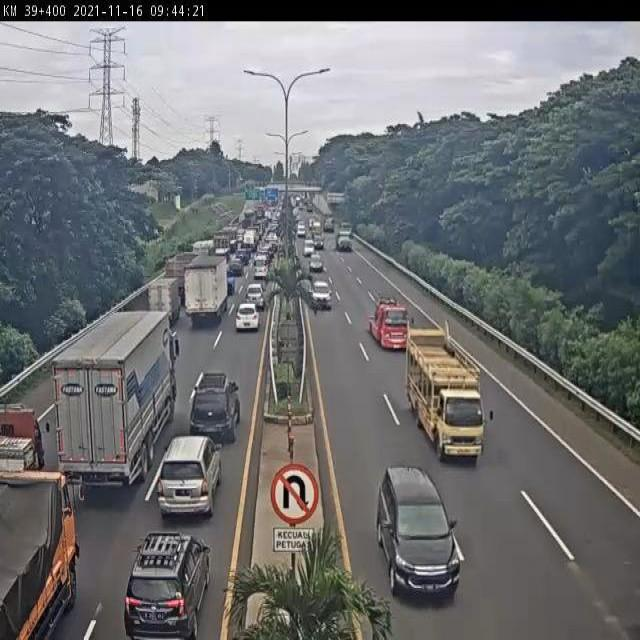car: (381, 469, 461, 595), (129, 521, 201, 631), (157, 435, 221, 521), (191, 368, 236, 444), (232, 303, 265, 336), (238, 287, 266, 305), (313, 282, 332, 306), (251, 260, 268, 281), (227, 258, 241, 282), (308, 253, 323, 270), (303, 237, 315, 255), (313, 231, 323, 249), (297, 220, 305, 235), (310, 219, 317, 225)
small truck: (405, 323, 492, 460), (373, 296, 409, 349), (141, 280, 177, 325), (321, 215, 334, 232)
truck-l-: (50, 310, 180, 486), (334, 222, 353, 255)
truck-m-: (0, 472, 77, 640), (183, 252, 230, 325)
